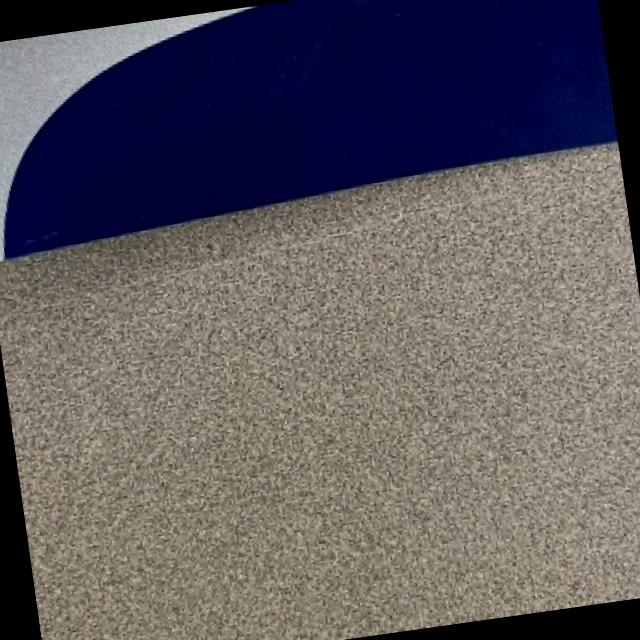healthy: (0, 141, 640, 640), (4, 0, 615, 254)
